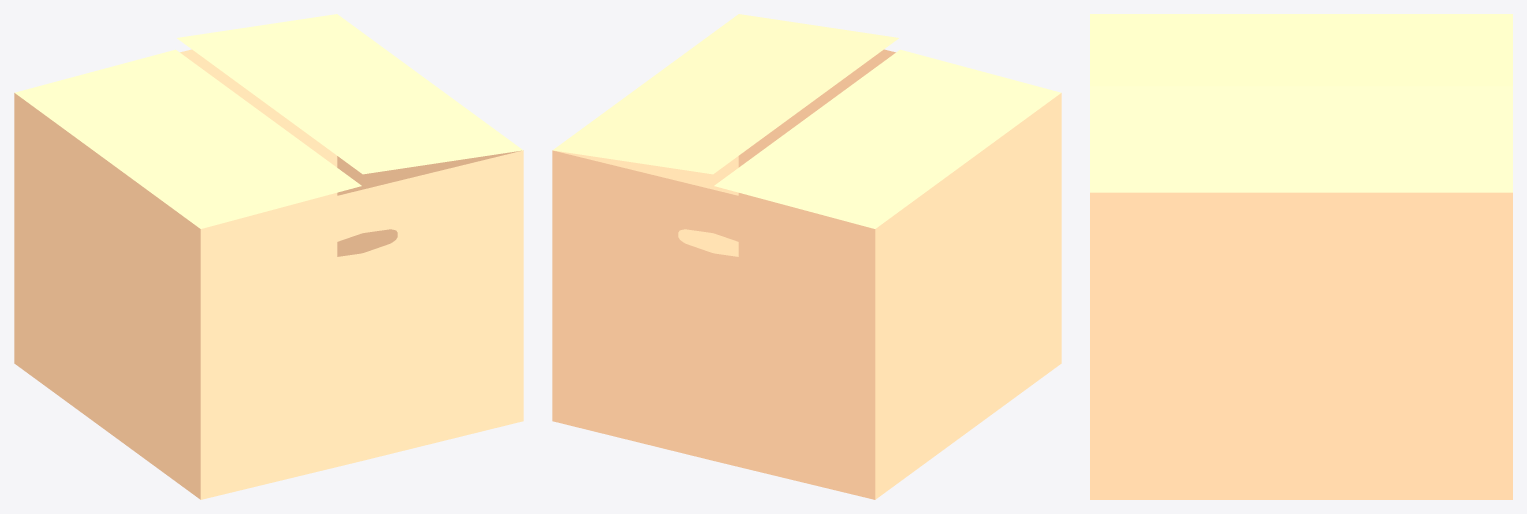
Rendered from cardboardBox.glb.
3 renders of one model, left to right at view 1: azimuth 30°, elevation 25°; view 2: azimuth 150°, elevation 25°; view 3: azimuth 270°, elevation 25°, orthographic. The views are drawn at different scales.
Parts seen in each view (by area): view 1: CardboardBox; view 2: CardboardBox; view 3: CardboardBox.
Part boxes in pixels (<box>): CardboardBox: <box>14,14,523,499</box>; CardboardBox: <box>552,14,1061,499</box>; CardboardBox: <box>1090,14,1512,499</box>.
Size of the model in its own units: 20 by 16.96 by 20.
